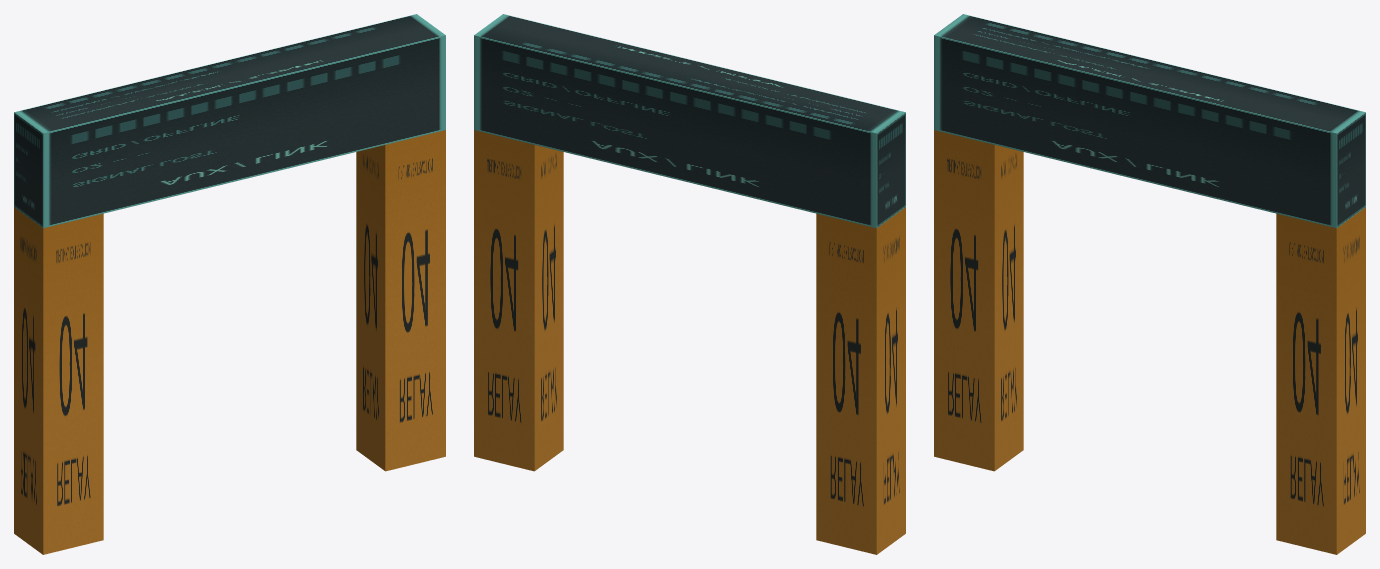
File: doorframe_4m_LOD3.obj
The picture shows the model from 3 angles, left to right: view 1: azimuth 30°, elevation 25°; view 2: azimuth 150°, elevation 25°; view 3: azimuth 330°, elevation 25°; orthographic projection.
Visible parts, largest first — view 1: L02_doorframe_4m_LOD3; view 2: L02_doorframe_4m_LOD3; view 3: L02_doorframe_4m_LOD3.
Boxes of the visible parts, x1=… form: L02_doorframe_4m_LOD3: x1=14, y1=14, x2=445, y2=554; L02_doorframe_4m_LOD3: x1=474, y1=14, x2=905, y2=554; L02_doorframe_4m_LOD3: x1=934, y1=14, x2=1365, y2=554.
Bounding box in the file's own units: 4 × 4 × 0.5.
1 material, 1 textured.
